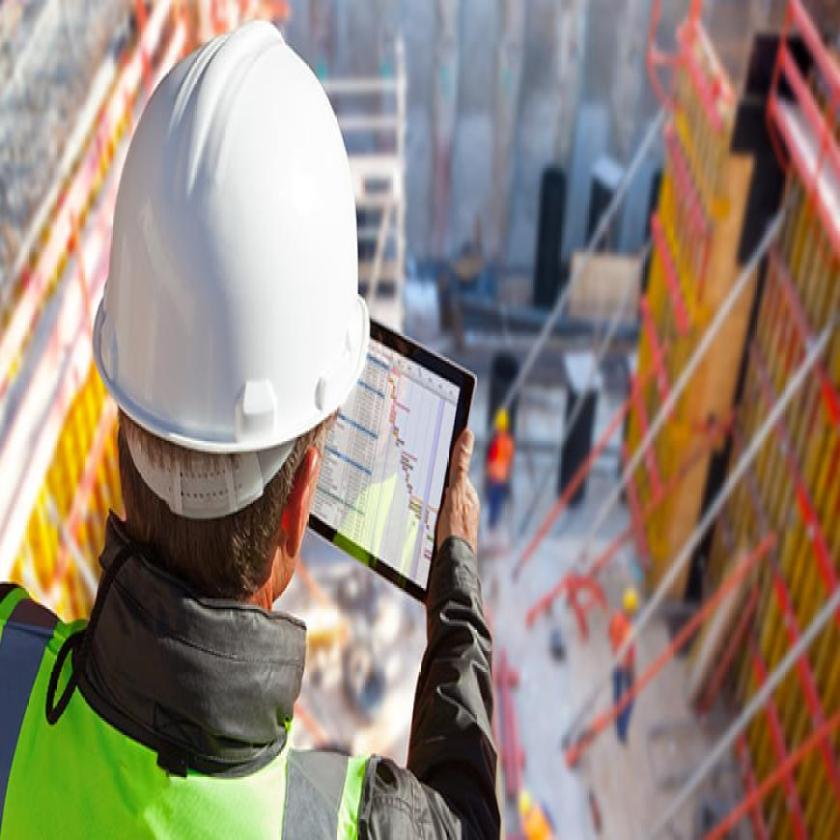Con_casco: (90, 22, 378, 620)
